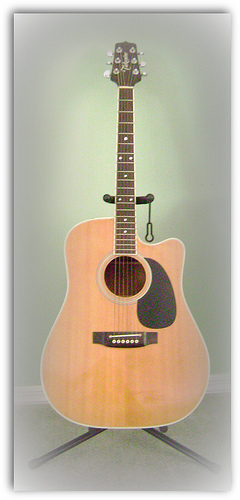guitar: (40, 40, 213, 434)
